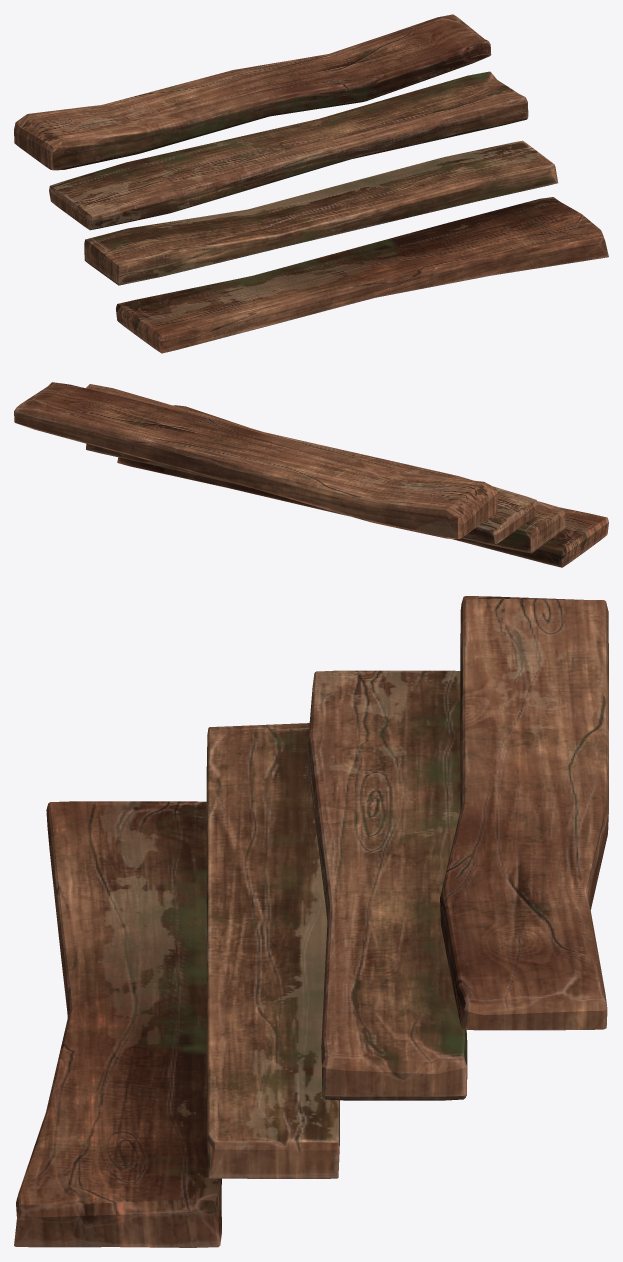
File: SM_Stairs.fbx
3 renders of one model, top to bottom at view 1: azimuth 30°, elevation 25°; view 2: azimuth 150°, elevation 25°; view 3: azimuth 270°, elevation 25°, orthographic. The views are drawn at different scales.
Visible parts, largest first — view 1: SM_Stairs_LOD0; view 2: SM_Stairs_LOD0; view 3: SM_Stairs_LOD0.
Part boxes in pixels (<box>): SM_Stairs_LOD0: <box>14,14,608,353</box>; SM_Stairs_LOD0: <box>14,382,608,567</box>; SM_Stairs_LOD0: <box>14,596,608,1247</box>.
Size of the model in its own units: 316 by 194 by 92.07.
1 material, 1 textured.
